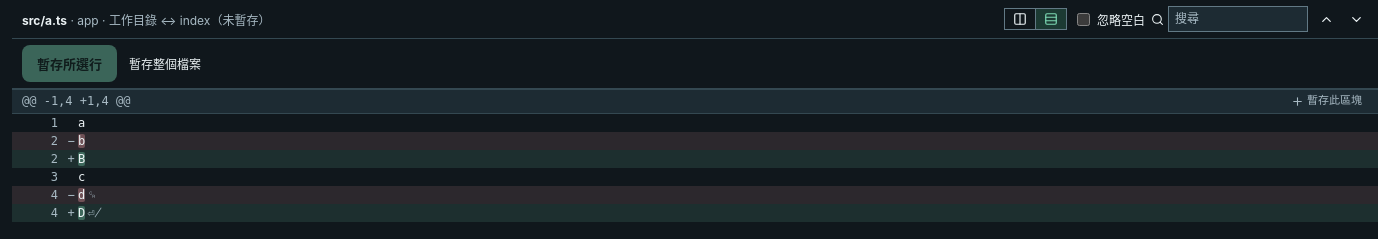
Test case: DiffView partial staging › requests a whitespace-insensitive view without staging from it
Expected: the checkbox named "選取新增第 2 行" is shown, [12,150,64,168]
What coordinates should you click on to do the following:
click the checkbox labelled "忽略空白"
I would click on:
 (1084, 19)
Its box is [1077,12,1090,26].
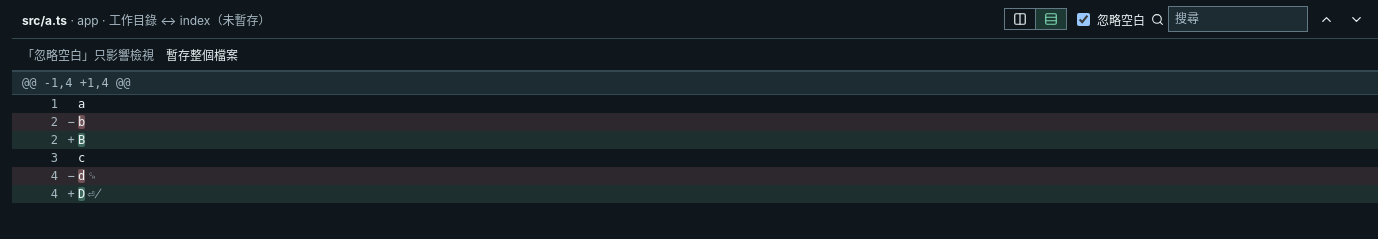
Expected: the text "「忽略空白」只影響檢視" is shown, [22,46,154,63]
